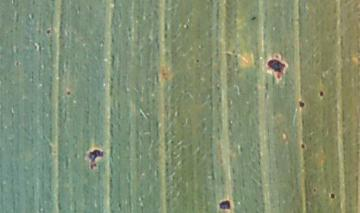tarspot: (87, 147, 104, 171), (267, 58, 286, 73), (218, 199, 232, 211), (328, 191, 335, 200), (65, 88, 72, 96), (298, 99, 305, 107), (319, 89, 325, 98), (300, 142, 307, 149), (194, 56, 200, 64), (45, 28, 51, 35), (275, 72, 281, 79), (311, 186, 317, 193), (251, 16, 257, 22), (274, 53, 281, 58)
